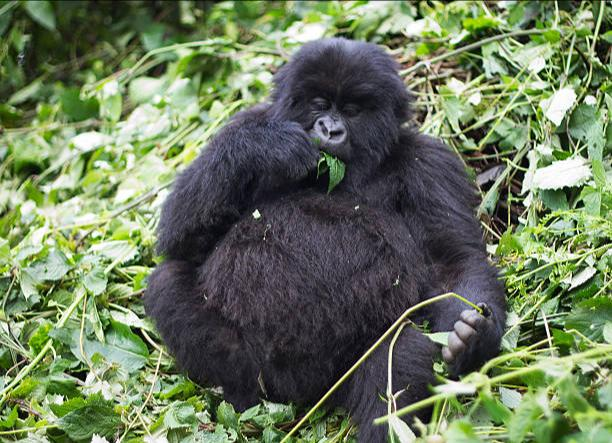goriile_montagne: (131, 5, 538, 431)
